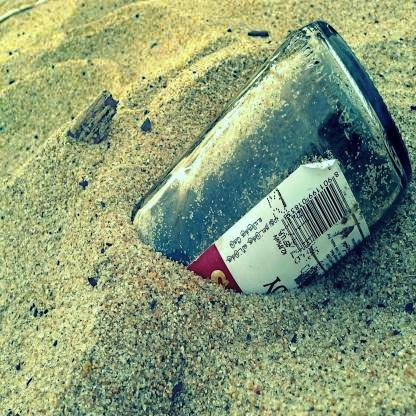gbottle: (136, 21, 411, 290)
